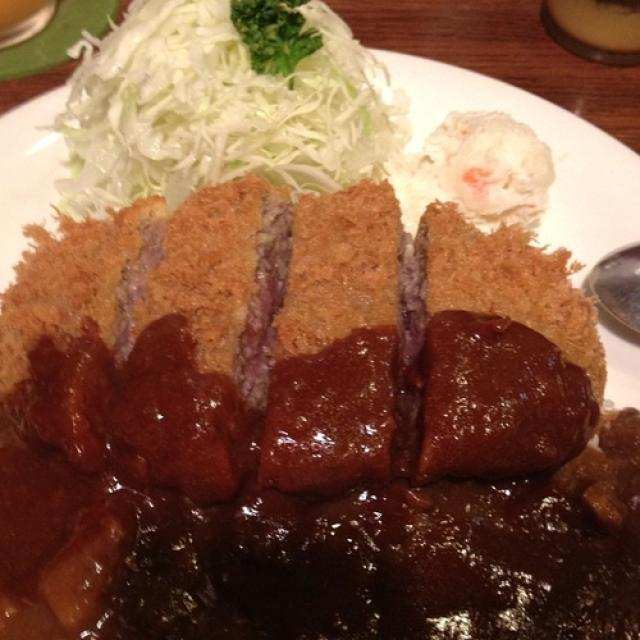炸货点心: (4, 82, 634, 584)
